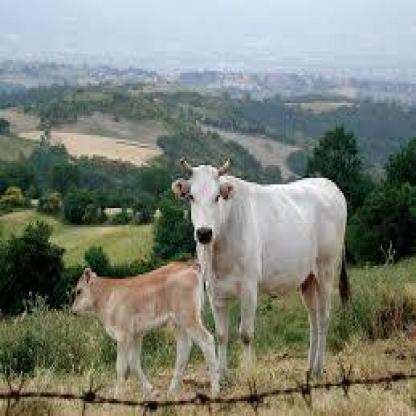cow: (169, 156, 351, 384), (70, 258, 222, 400)
